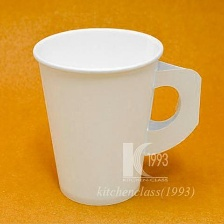paper_cup: (27, 21, 206, 210)
